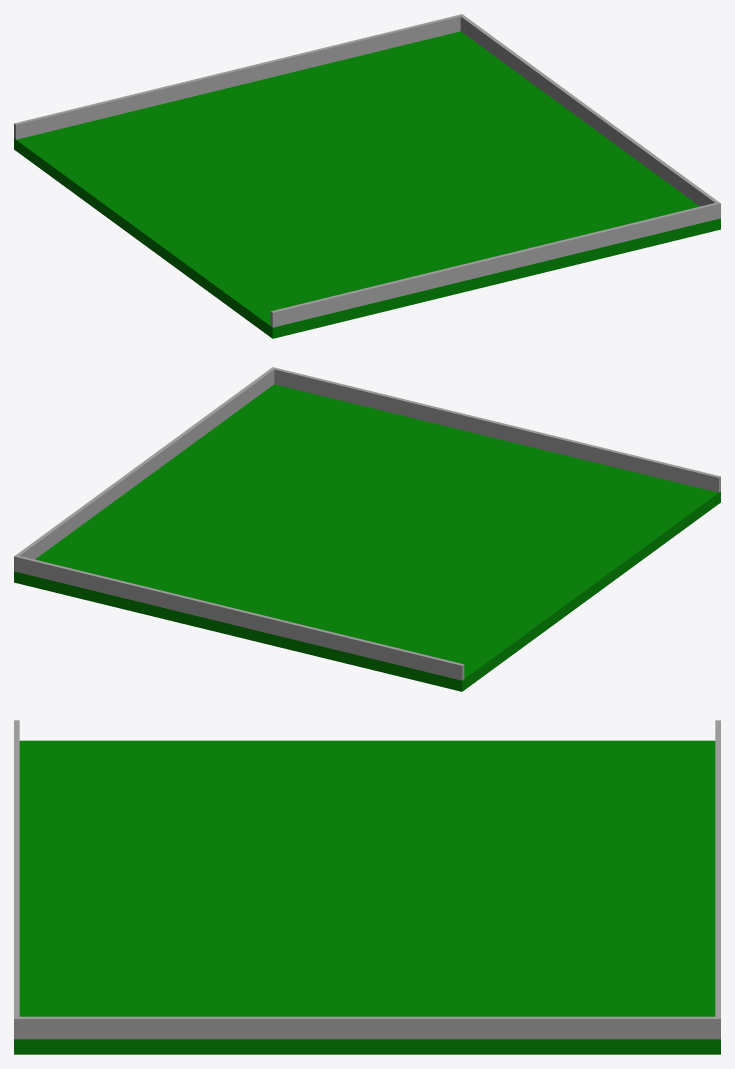
The model's file is Wayholt-1.obj.
The picture shows the model from 3 angles, top to bottom: view 1: azimuth 30°, elevation 25°; view 2: azimuth 150°, elevation 25°; view 3: azimuth 270°, elevation 25°; orthographic projection. The views are drawn at different scales.
Parts seen in each view (by area): view 1: Wayholt-1; view 2: Wayholt-1; view 3: Wayholt-1.
Part boxes in pixels (x1,y1,x2,y2): Wayholt-1: [14, 14, 720, 338]; Wayholt-1: [14, 367, 720, 691]; Wayholt-1: [14, 720, 720, 1054].
Bounding box in the file's own units: 126 × 7 × 126.
Materials: 1 (1 with a texture image).
